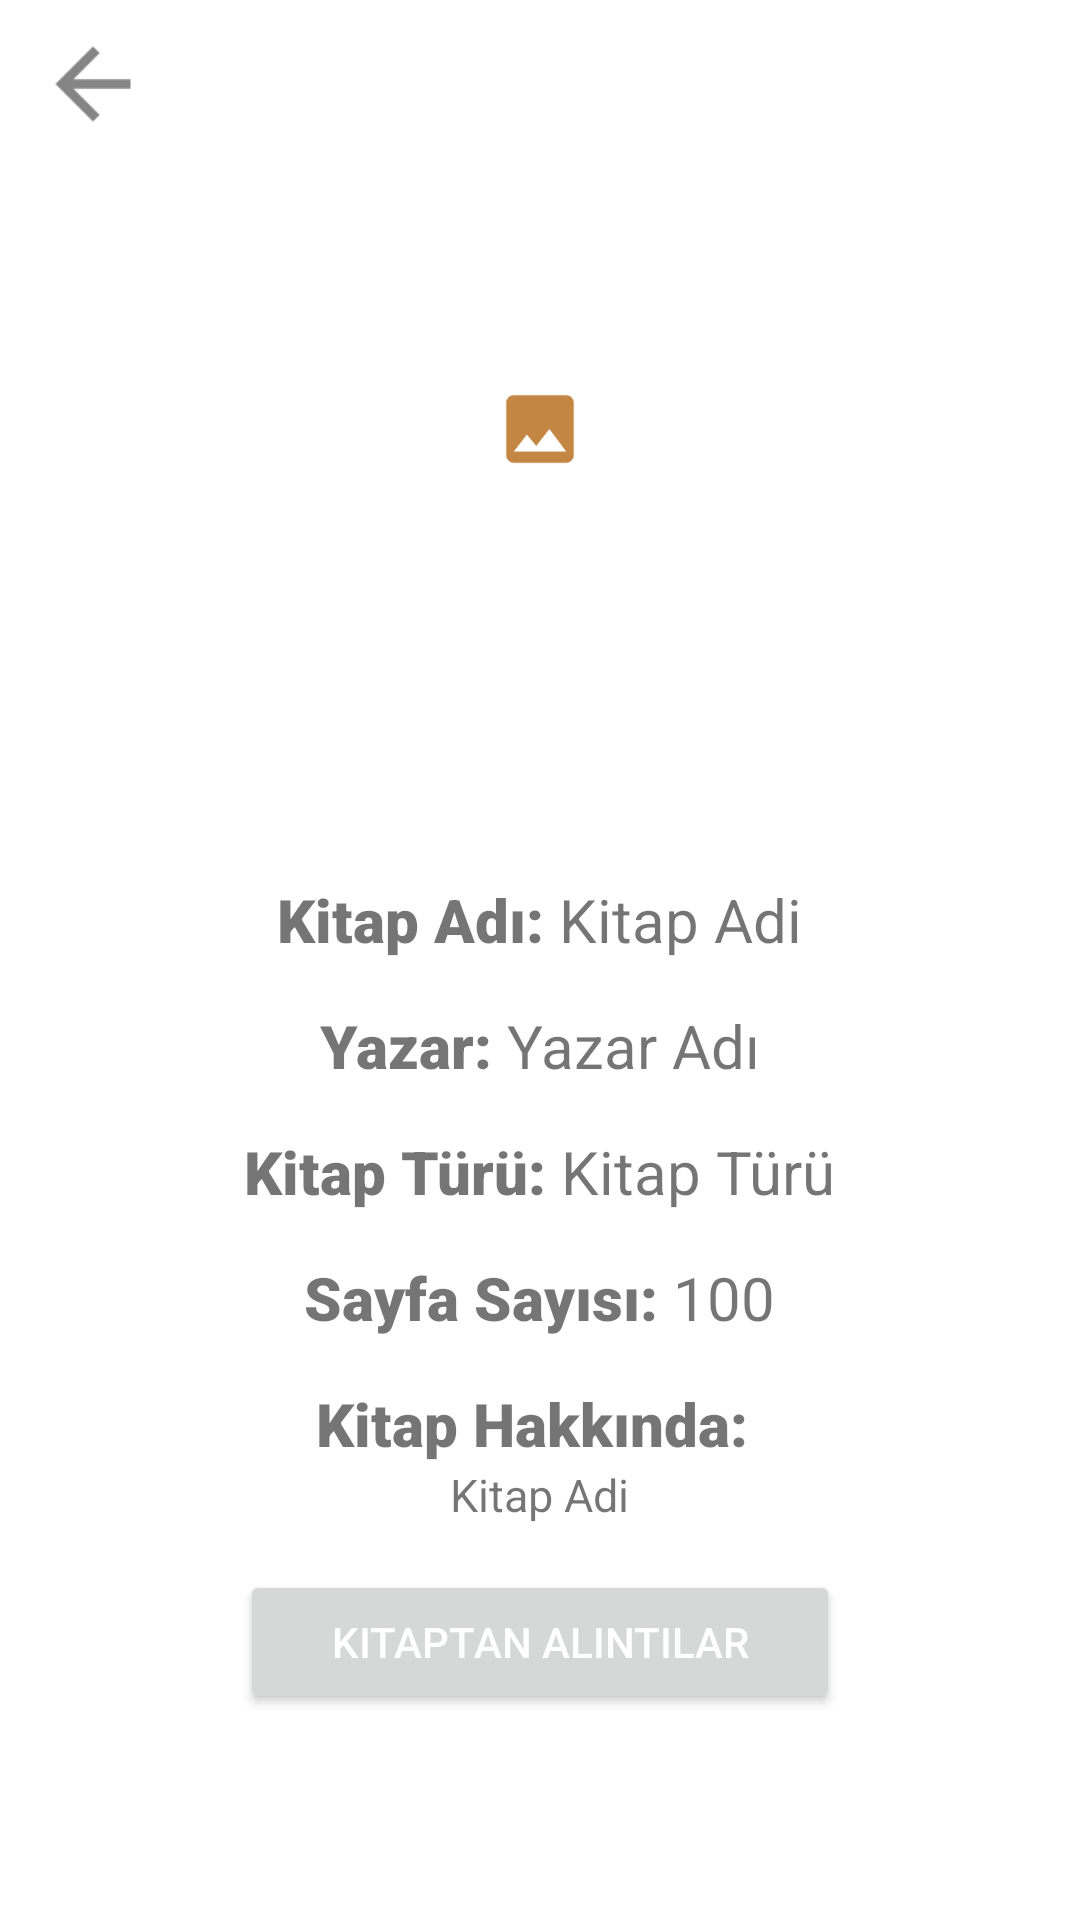

Icons on this 1080x1920 Android screen, each with its box as bbox=(x1, y1, x2, y2):
back: bbox=(55, 46, 131, 122)
